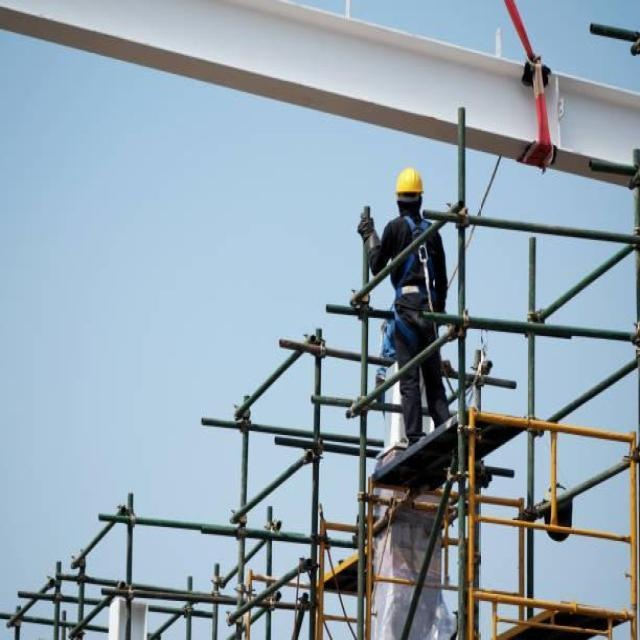Arnes_seguridad: (390, 217, 440, 351)
